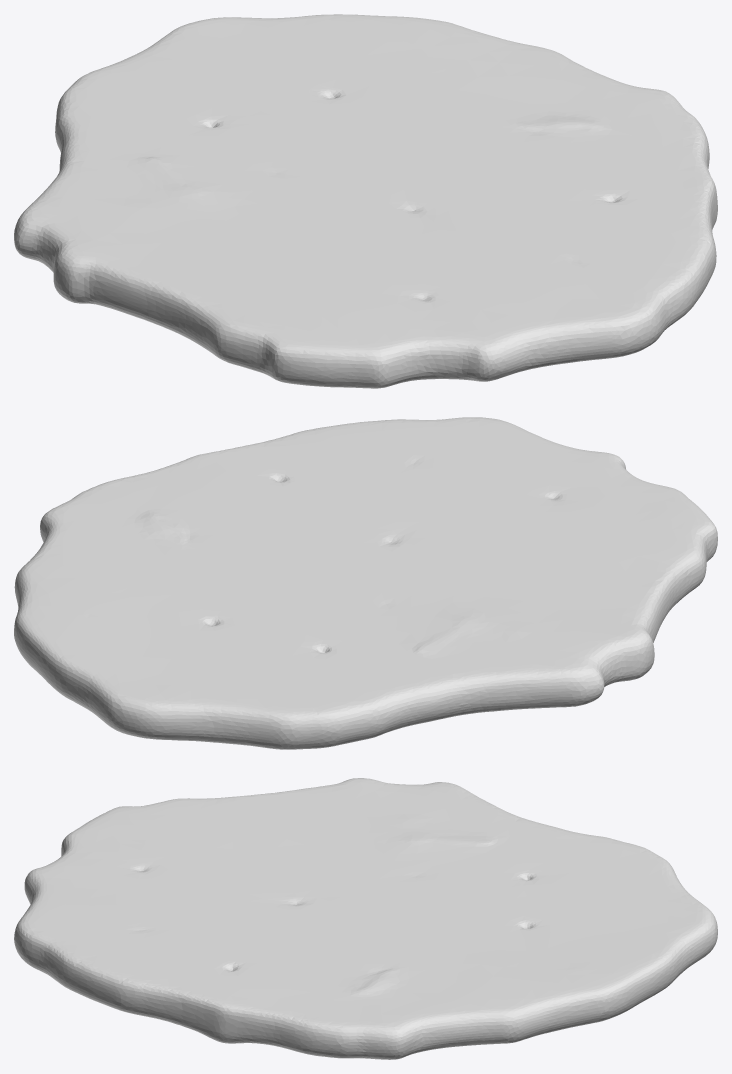
Rendered from nec_bonemap01.glb.
3 views of the same model, one above another, from view 1: azimuth 30°, elevation 25°; view 2: azimuth 150°, elevation 25°; view 3: azimuth 270°, elevation 25° (orthographic). The views are drawn at different scales.
Visible parts, largest first — view 1: Low; view 2: Low; view 3: Low.
Part boxes in pixels (x1,y1,x2,y2): Low: [14, 14, 717, 388]; Low: [14, 417, 717, 749]; Low: [14, 778, 717, 1059].
Bounding box in the file's own units: 1.73 × 0.1252 × 1.99.
Materials: 1 (1 with a texture image).
